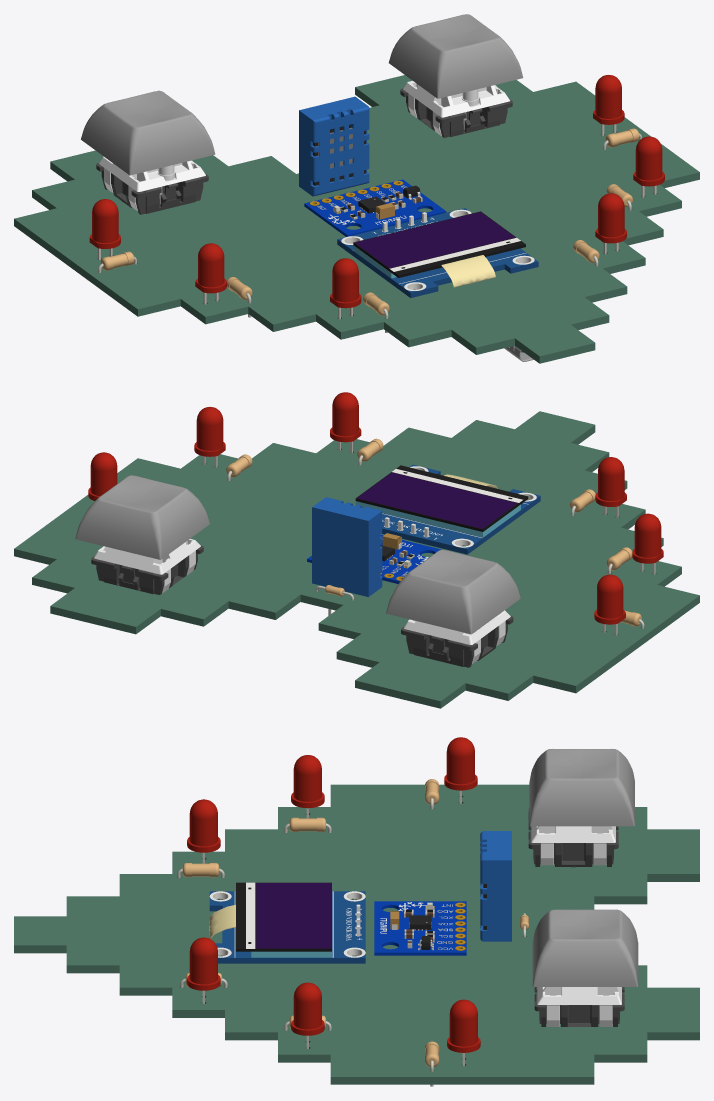
Rendered from HeartBie3DFile.glb.
3 views of the same model, one above another, from view 1: azimuth 30°, elevation 25°; view 2: azimuth 150°, elevation 25°; view 3: azimuth 270°, elevation 25° (orthographic). The views are drawn at different scales.
Parts seen in each view (by area): view 1: =>[0:1:1:97], =>[0:1:1:24] (×2), =>0:1:1:7, =>[0:1:1:3] (×6), =>[0:1:1:13], NAUO1 (×2), NAUO3 (×2), PCB; view 2: =>[0:1:1:97], =>[0:1:1:24] (×2), =>0:1:1:7, =>[0:1:1:3] (×6), =>[0:1:1:13], NAUO1 (×2), NAUO3 (×2), PCB; view 3: =>[0:1:1:97], =>[0:1:1:24] (×2), =>0:1:1:7, =>[0:1:1:3] (×6), NAUO3 (×2), PCB, =>[0:1:1:13], NAUO1 (×2), =>[0:1:1:11] (×2).
Part boxes in pixels (x1,y1,x2,y2): =>[0:1:1:97]: (14,75,699,363); =>[0:1:1:24] (×2): (81,14,523,175); =>0:1:1:7: (337,208,538,297); =>[0:1:1:3] (×6): (89,75,664,319); =>[0:1:1:13]: (299,96,369,196); NAUO1 (×2): (96,88,512,214); NAUO3 (×2): (99,80,510,210); PCB: (304,179,446,236); =>[0:1:1:97]: (14,411,699,708); =>[0:1:1:24] (×2): (75,475,520,634); =>0:1:1:7: (355,464,540,554); =>[0:1:1:3] (×6): (88,392,663,635); =>[0:1:1:13]: (312,497,382,615); NAUO1 (×2): (91,545,513,667); NAUO3 (×2): (94,539,510,663); PCB: (307,534,441,583); =>[0:1:1:97]: (14,784,699,1084); =>[0:1:1:24] (×2): (529,748,638,986); =>0:1:1:7: (209,882,365,963); =>[0:1:1:3] (×6): (187,737,480,1066); NAUO3 (×2): (531,826,621,1026); PCB: (374,901,466,955); =>[0:1:1:13]: (480,831,511,941); NAUO1 (×2): (528,808,624,1026); =>[0:1:1:11] (×2): (177,817,331,877).
Size of the model in its own units: 0.1197 by 0.0251 by 0.1188.
